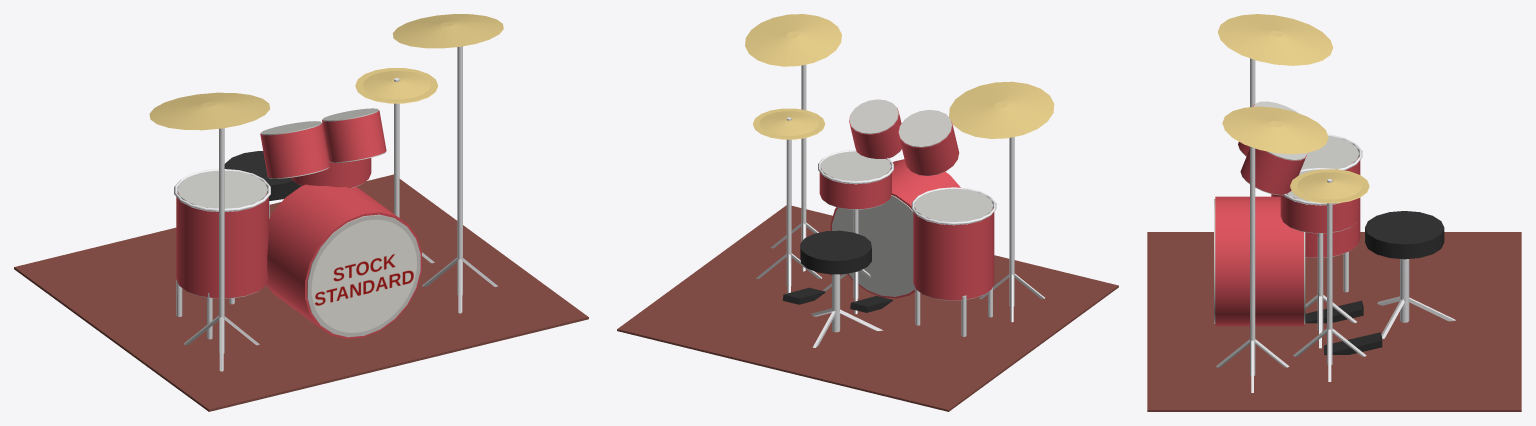
Rendered from drum_kit.glb.
3 renders of one model, left to right at view 1: azimuth 30°, elevation 25°; view 2: azimuth 150°, elevation 25°; view 3: azimuth 270°, elevation 25°, orthographic. The views are drawn at different scales.
Parts seen in each view (by area): view 1: drum_kit_mesh_std, drum_kit_mesh_shiny, drum_kit_mesh_metal, kick_logo; view 2: drum_kit_mesh_std, drum_kit_mesh_metal, drum_kit_mesh_shiny; view 3: drum_kit_mesh_std, drum_kit_mesh_metal, drum_kit_mesh_shiny.
Part boxes in pixels (x1=…): drum_kit_mesh_std: x1=14, y1=108, x2=588, y2=411; drum_kit_mesh_shiny: x1=176, y1=110, x2=421, y2=338; drum_kit_mesh_metal: x1=149, y1=14, x2=503, y2=371; kick_logo: x1=311, y1=219, x2=416, y2=332; drum_kit_mesh_std: x1=617, y1=99, x2=1118, y2=411; drum_kit_mesh_metal: x1=745, y1=14, x2=1054, y2=347; drum_kit_mesh_shiny: x1=819, y1=108, x2=994, y2=300; drum_kit_mesh_std: x1=1147, y1=101, x2=1521, y2=411; drum_kit_mesh_metal: x1=1216, y1=14, x2=1455, y2=392; drum_kit_mesh_shiny: x1=1215, y1=104, x2=1360, y2=326.
Size of the model in its own units: 1.8 by 1.21 by 1.6.
Materials: 4 (1 with a texture image).
